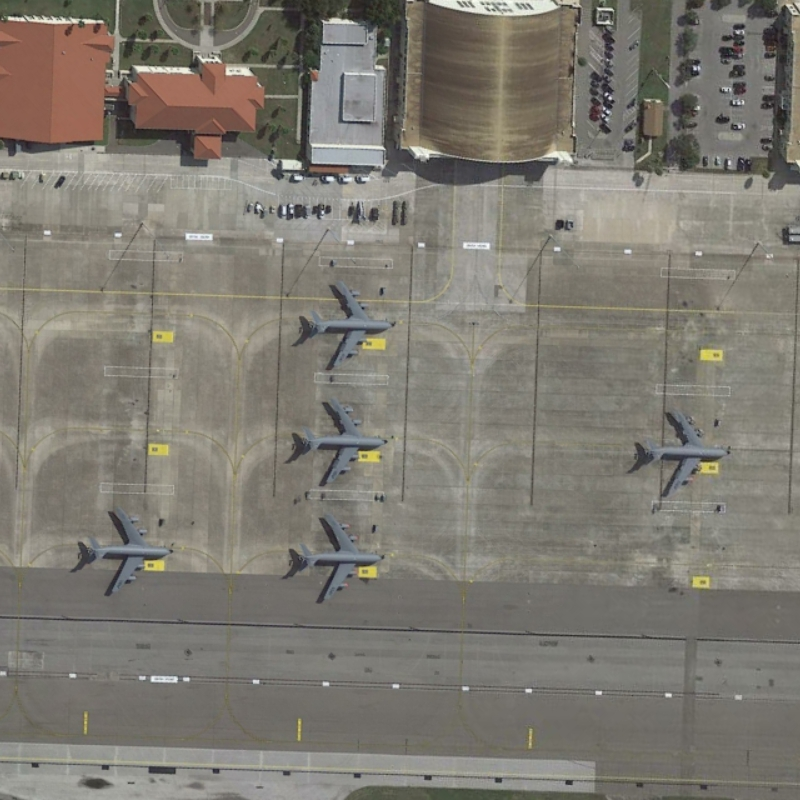A14: (294, 508, 388, 608), (638, 404, 730, 504), (78, 507, 176, 599), (299, 393, 387, 489), (306, 279, 392, 373)
